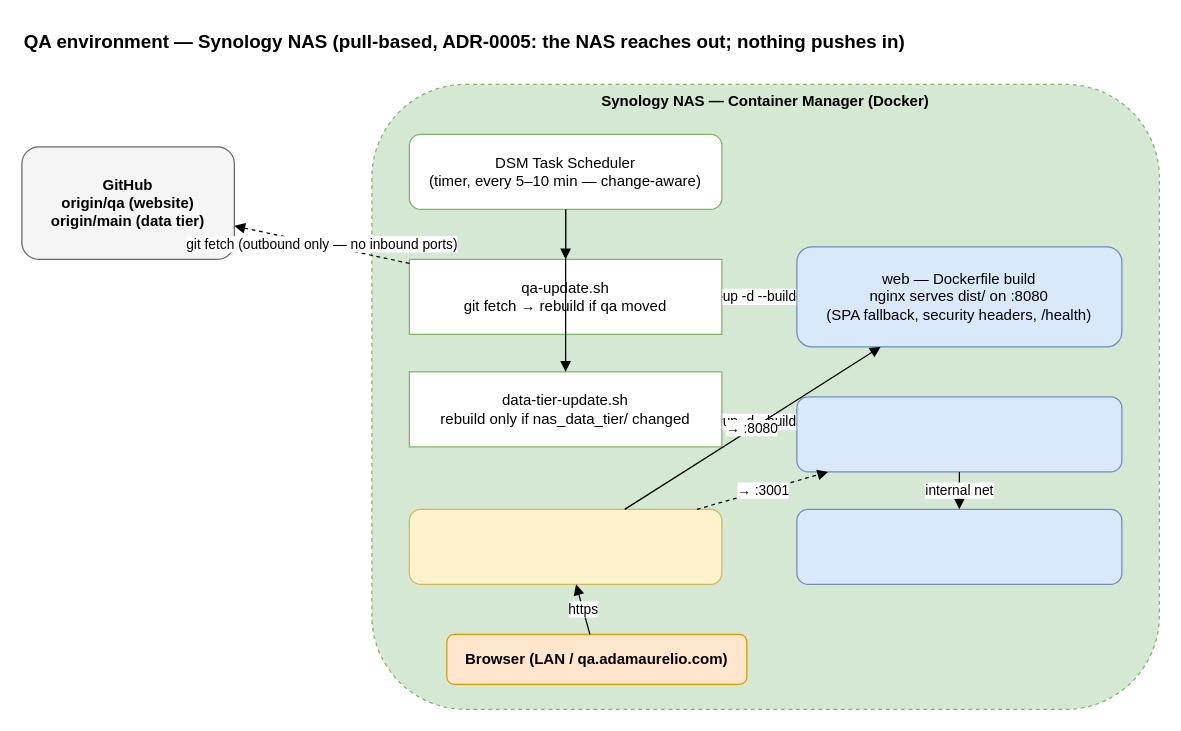
Image size: 1181x731. Some labels were removed from this diagram. Here are the shapes that lost their labels. From the top down, the centre of each, then its label:
At point 959,434: "api — Node/Express 127.0.0.1:3001 (loopback only)".
At point 565,546: "DSM reverse proxy :443 Let's Encrypt (DNS-01 via Route 53)".
At point 959,546: "postgres no published port (internal Docker net), named volume".
